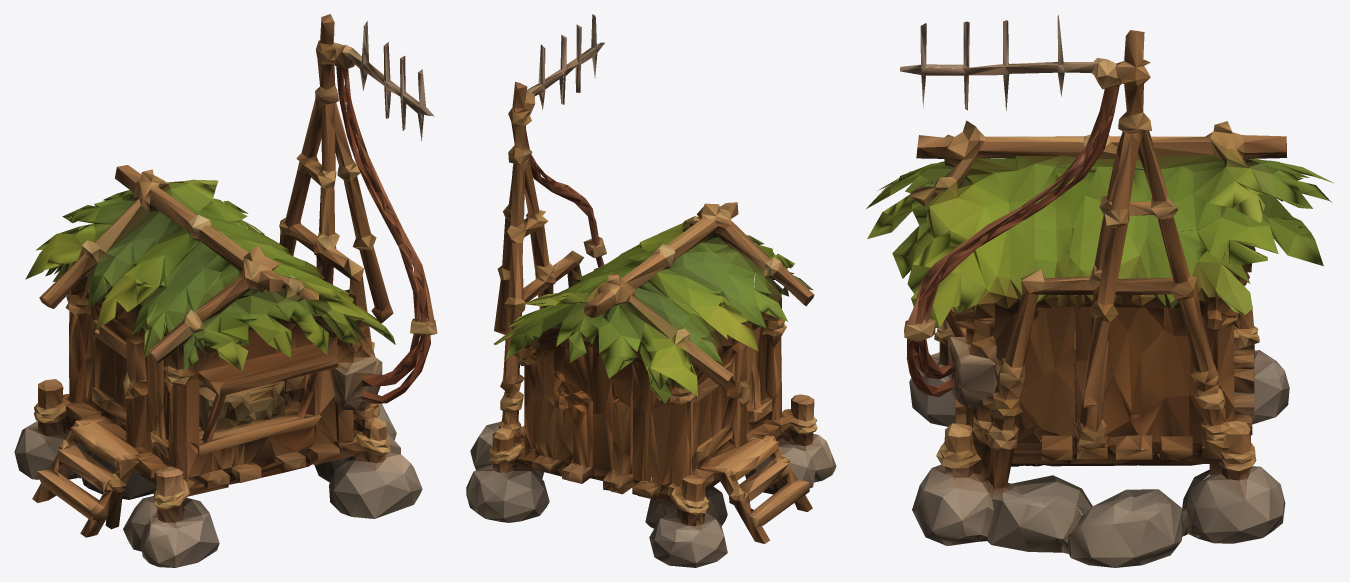
The model's file is building-radioStation.glb.
3 views of the same model, side by side, from view 1: azimuth 30°, elevation 25°; view 2: azimuth 150°, elevation 25°; view 3: azimuth 270°, elevation 25° (orthographic). The views are drawn at different scales.
Parts seen in each view (by area): view 1: 0_radioStation; view 2: 0_radioStation; view 3: 0_radioStation.
Boxes of the visible parts, bbox=[...] form: 0_radioStation: bbox=[14, 14, 437, 567]; 0_radioStation: bbox=[466, 14, 836, 567]; 0_radioStation: bbox=[866, 15, 1334, 567].
Size of the model in its own units: 3.79 by 4.77 by 3.84.
